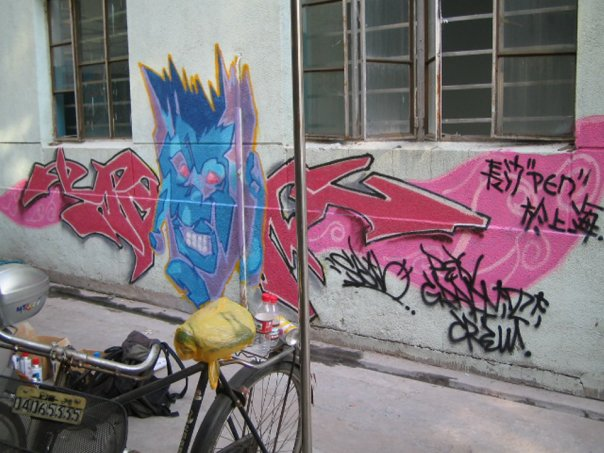graffity: (255, 114, 602, 324), (135, 40, 268, 309), (325, 232, 559, 370), (1, 136, 169, 291), (476, 147, 604, 260)
